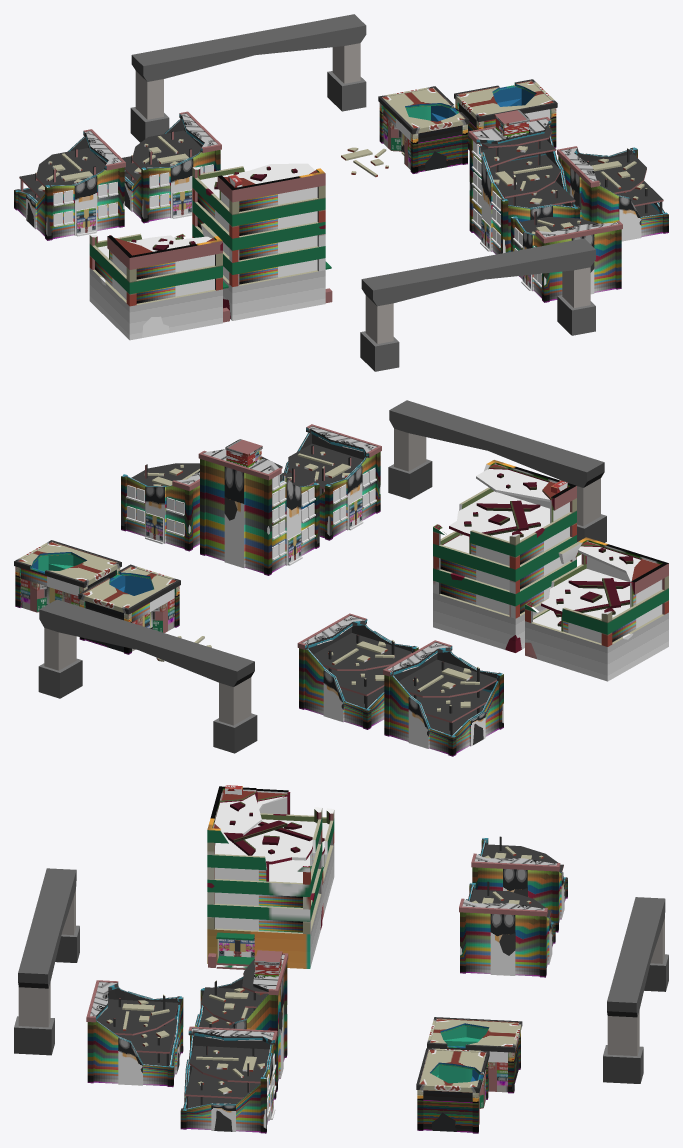
The model's file is City.fbx.
3 renders of one model, top to bottom at view 1: azimuth 30°, elevation 25°; view 2: azimuth 150°, elevation 25°; view 3: azimuth 270°, elevation 25°, orthographic. The views are drawn at different scales.
Visible parts, largest first — view 1: City; view 2: City; view 3: City.
Part boxes in pixels (x1,y1,x2,y2): City: [14, 14, 668, 371]; City: [14, 400, 668, 756]; City: [14, 785, 668, 1133].
Bounding box in the file's own units: 81.59 × 20.24 × 86.11.
